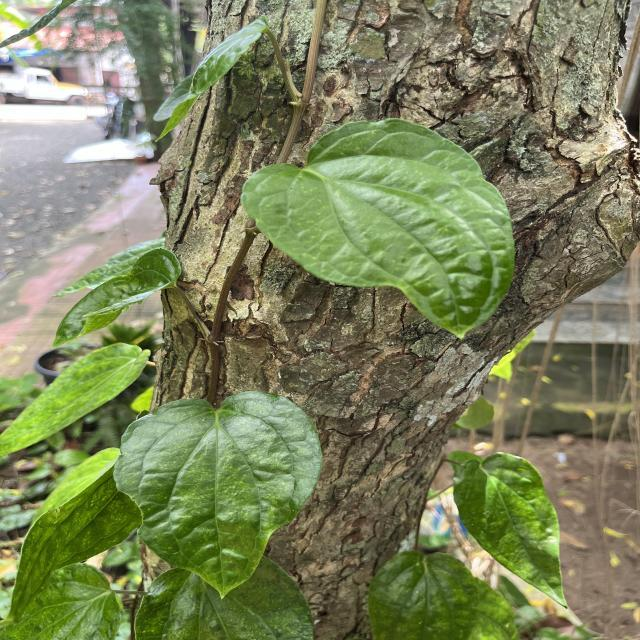Piper betle: (110, 388, 326, 602)
